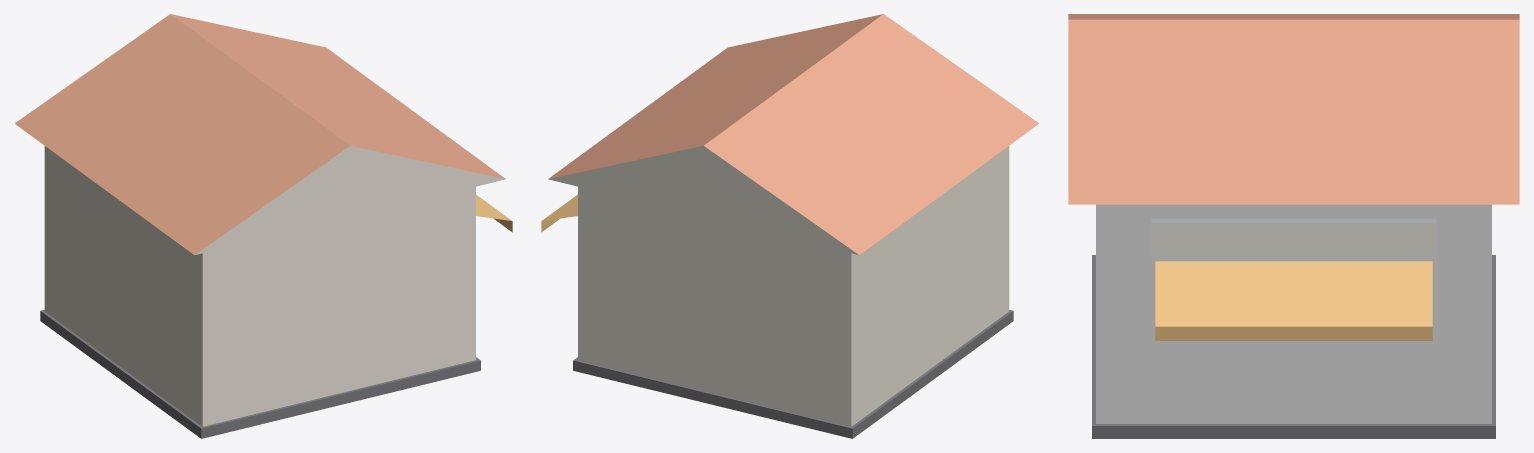
The model's file is Bldg_C.fbx.
3 renders of one model, left to right at view 1: azimuth 30°, elevation 25°; view 2: azimuth 150°, elevation 25°; view 3: azimuth 270°, elevation 25°, orthographic. The views are drawn at different scales.
Visible parts, largest first — view 1: Bldg_C; view 2: Bldg_C; view 3: Bldg_C.
Part boxes in pixels (x1,y1,x2,y2): Bldg_C: (15, 14, 512, 438); Bldg_C: (541, 14, 1038, 438); Bldg_C: (1068, 14, 1519, 438).
Bounding box in the file's own units: 6.45 × 4.65 × 5.7.
